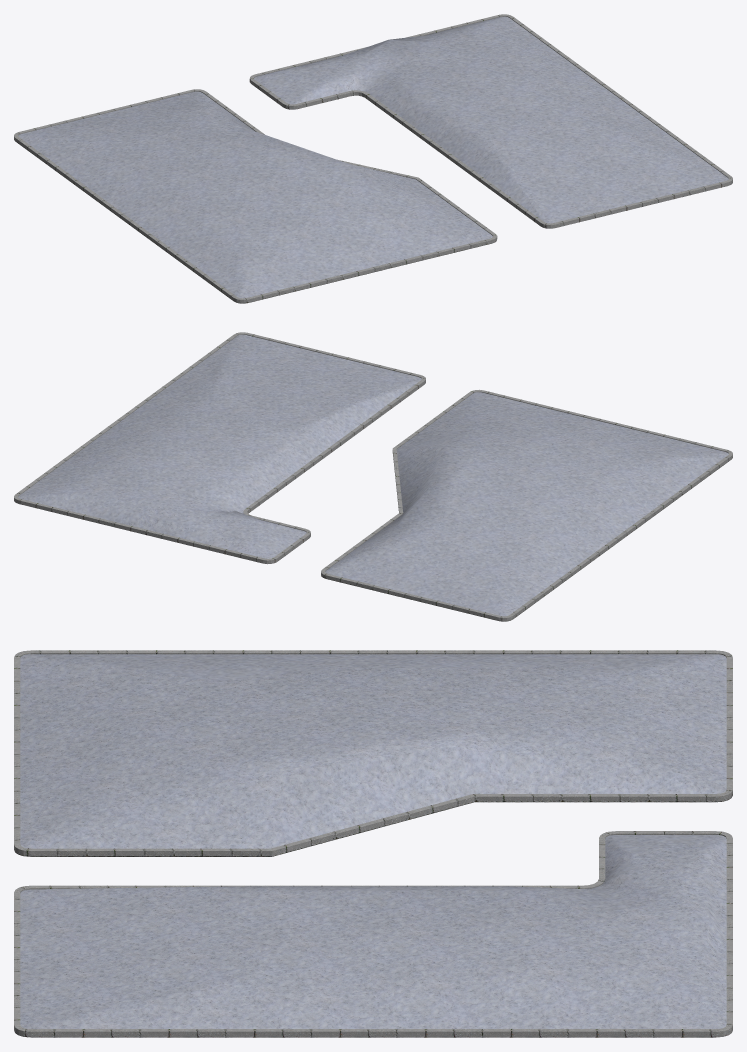
Rendered from border.fbx.
3 views of the same model, one above another, from view 1: azimuth 30°, elevation 25°; view 2: azimuth 150°, elevation 25°; view 3: azimuth 270°, elevation 25° (orthographic). The views are drawn at different scales.
Parts seen in each view (by area): view 1: ground, bordur; view 2: ground, bordur; view 3: ground, bordur.
Boxes of the visible parts, x1,y1,x2,y2 form: ground: (18, 16, 728, 298); bordur: (14, 14, 732, 303); ground: (18, 334, 728, 616); bordur: (14, 332, 732, 621); ground: (20, 654, 726, 1028); bordur: (14, 650, 732, 1037).
Bounding box in the file's own units: 1435 × 70.13 × 1144.
2 materials, 2 textured.
